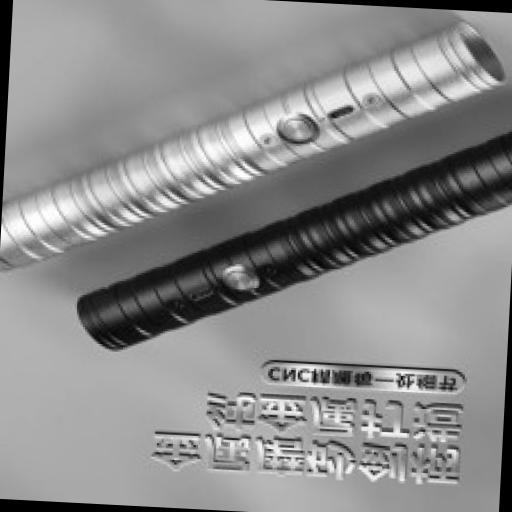lightsaber: (0, 0, 509, 299), (75, 107, 512, 372)
